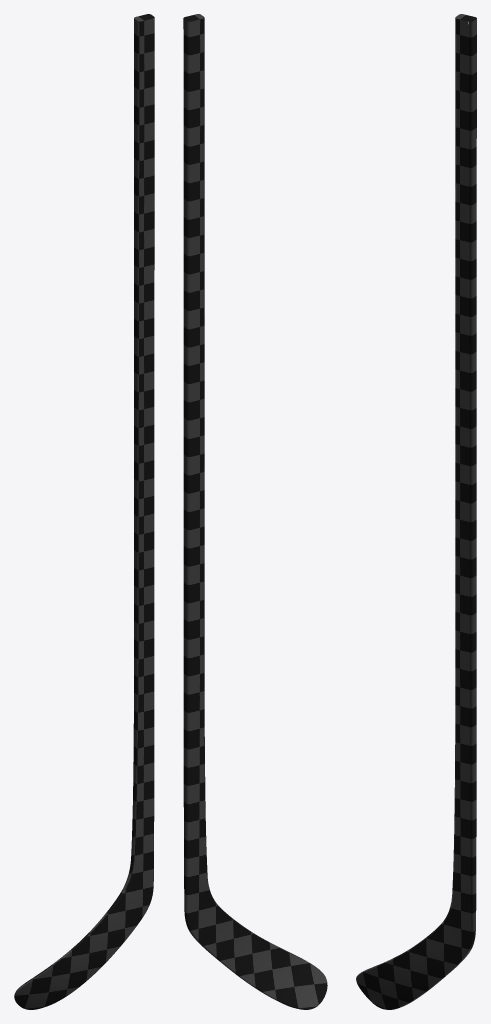
3 views of the same model, side by side, from view 1: azimuth 30°, elevation 25°; view 2: azimuth 210°, elevation 25°; view 3: azimuth 330°, elevation 25° (orthographic). The views are drawn at different scales.
Parts seen in each view (by area): view 1: geometry_0; view 2: geometry_0; view 3: geometry_0.
Part boxes in pixels (left/top/right/bottom): geometry_0: left=14, top=14, right=154, bottom=1009; geometry_0: left=183, top=14, right=327, bottom=1009; geometry_0: left=356, top=14, right=476, bottom=1009.
Bounding box in the file's own units: 221 × 1650 × 59.48.
1 material, 1 textured.
